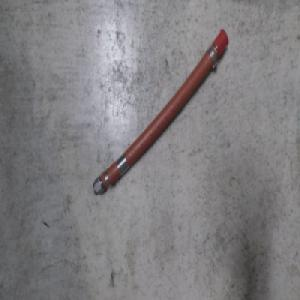Hose: (91, 26, 230, 198)
